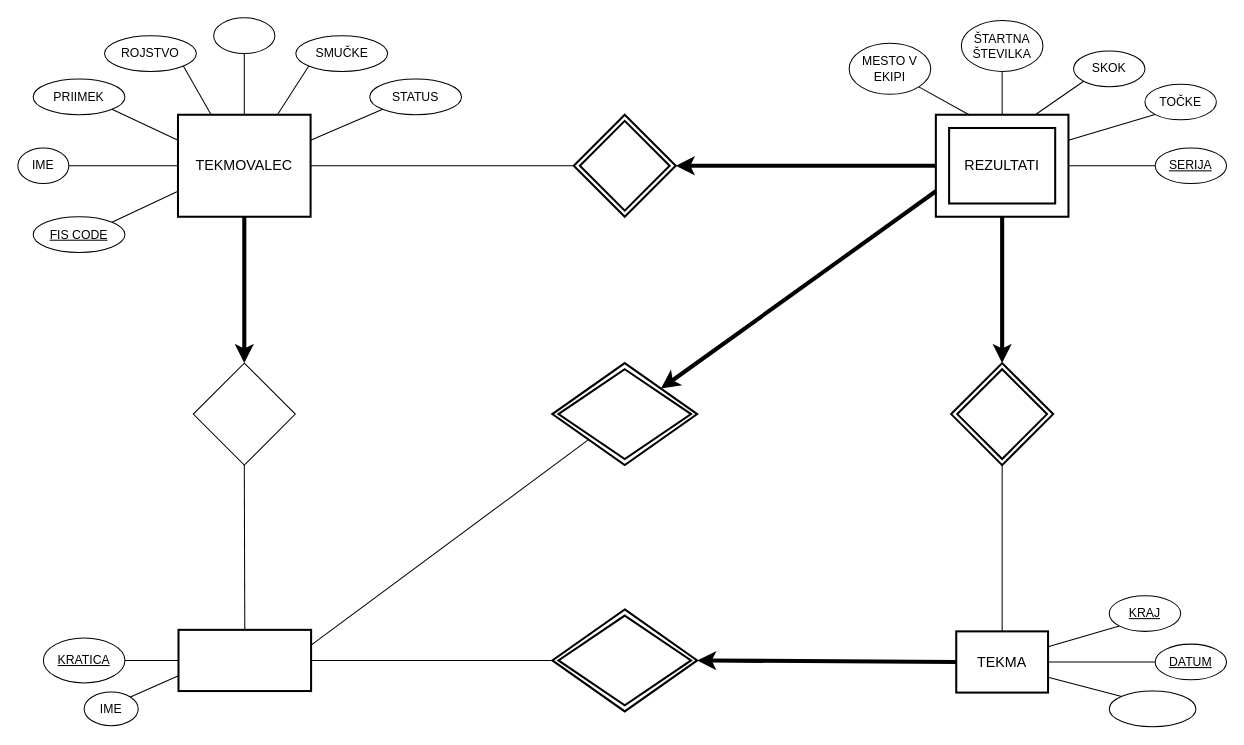
The diagram is 1244 pixels wide and 745 high, and some of its shapes have lost their labels. Here are the shapes that lost their labels. From the top down, the centre of each, then its label:
At [244,35]: "KLUB".
At [624,165]: "KDO".
At [243,413]: "TEKMUJE ZA".
At [624,414]: "DOSEŽEN ZA".
At [1002,414]: "KATERA".
At [244,660]: "DRŽAVA".
At [624,660]: "ORGANIZIRA".
At [1152,708]: "TIP TEKME".
